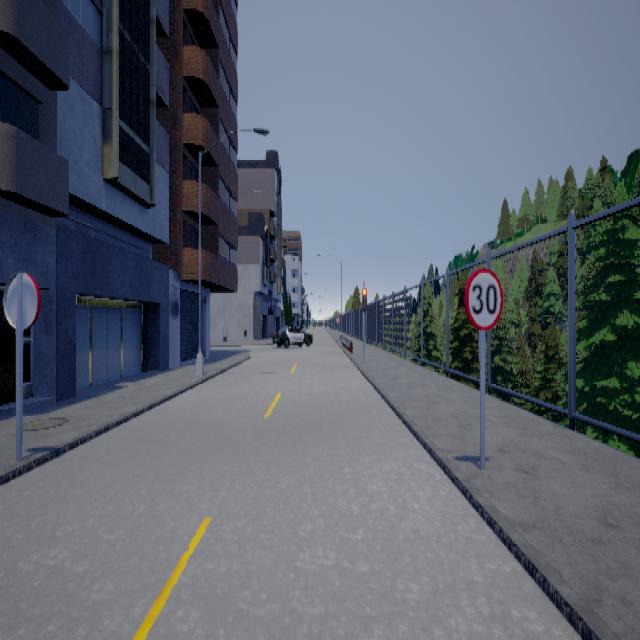red_light: (361, 283, 366, 313)
traffic_sign: (463, 266, 502, 329)
vehicle: (271, 323, 312, 347)
